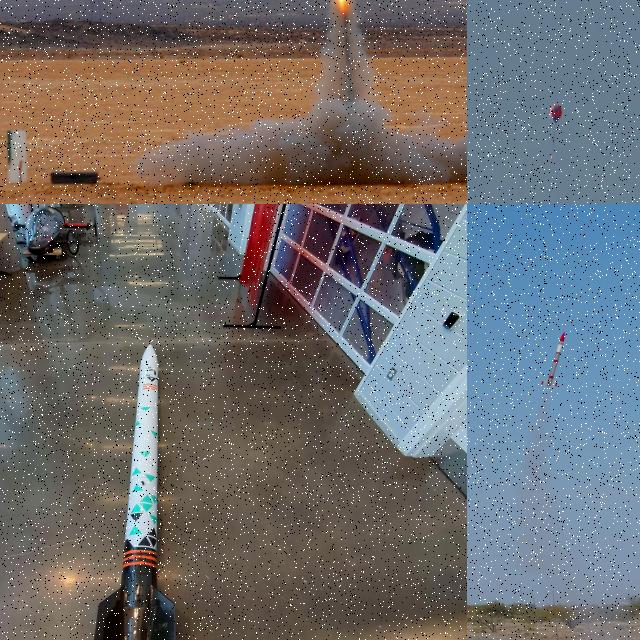Rocket: (94, 344, 176, 640), (540, 332, 566, 388)
